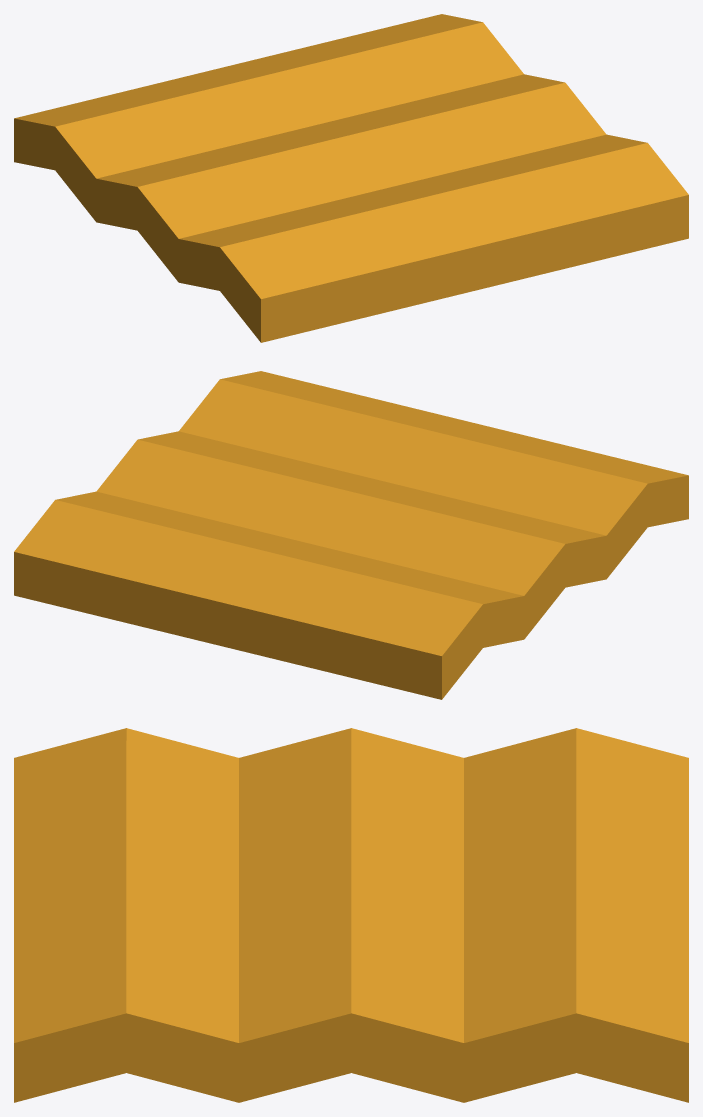
Rendered from Obstacle.fbx.
3 renders of one model, top to bottom at view 1: azimuth 30°, elevation 25°; view 2: azimuth 150°, elevation 25°; view 3: azimuth 270°, elevation 25°, orthographic. The views are drawn at different scales.
Visible parts, largest first — view 1: Engel; view 2: Engel; view 3: Engel.
Boxes of the visible parts, x1,y1,x2,y2 form: Engel: [14, 14, 688, 342]; Engel: [14, 371, 688, 699]; Engel: [14, 728, 688, 1102].
Bounding box in the file's own units: 1 × 0.1465 × 1.
